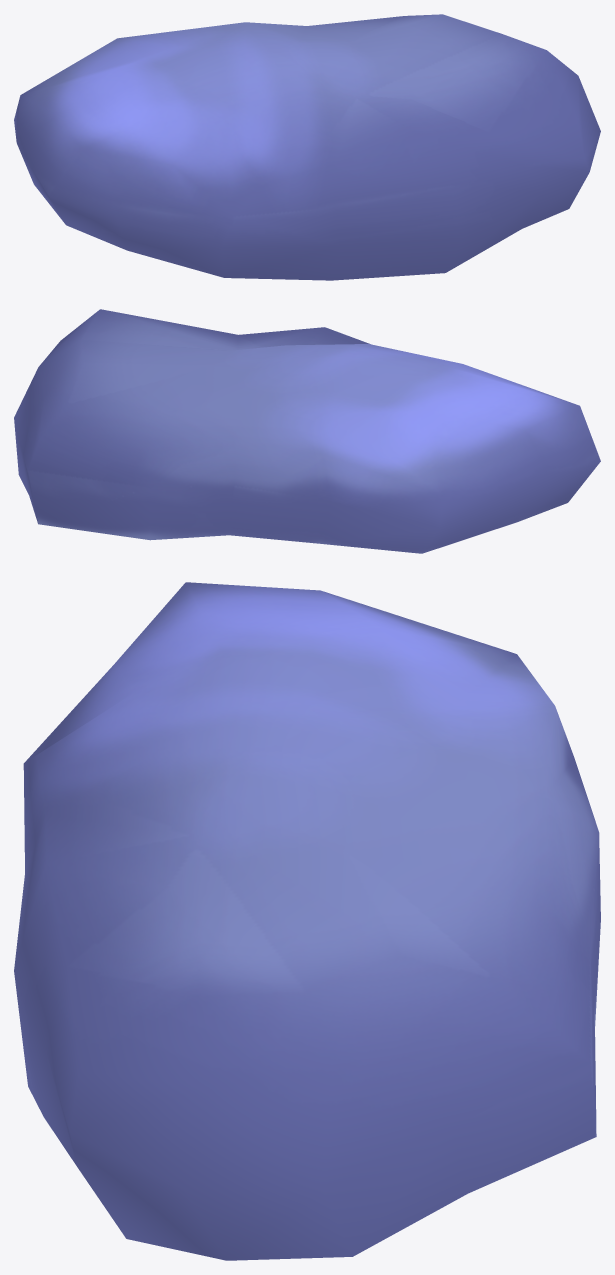
File: Swamp_Rocks_2.glb
3 renders of one model, top to bottom at view 1: azimuth 30°, elevation 25°; view 2: azimuth 150°, elevation 25°; view 3: azimuth 270°, elevation 25°, orthographic. The views are drawn at different scales.
Visible parts, largest first — view 1: Cube.010; view 2: Cube.010; view 3: Cube.010.
Part boxes in pixels (x1,y1,x2,y2): Cube.010: [14, 14, 600, 280]; Cube.010: [14, 309, 600, 553]; Cube.010: [14, 582, 600, 1260].
Size of the model in its own units: 86.89 by 31.24 by 47.97.
Materials: 1 (1 with a texture image).
